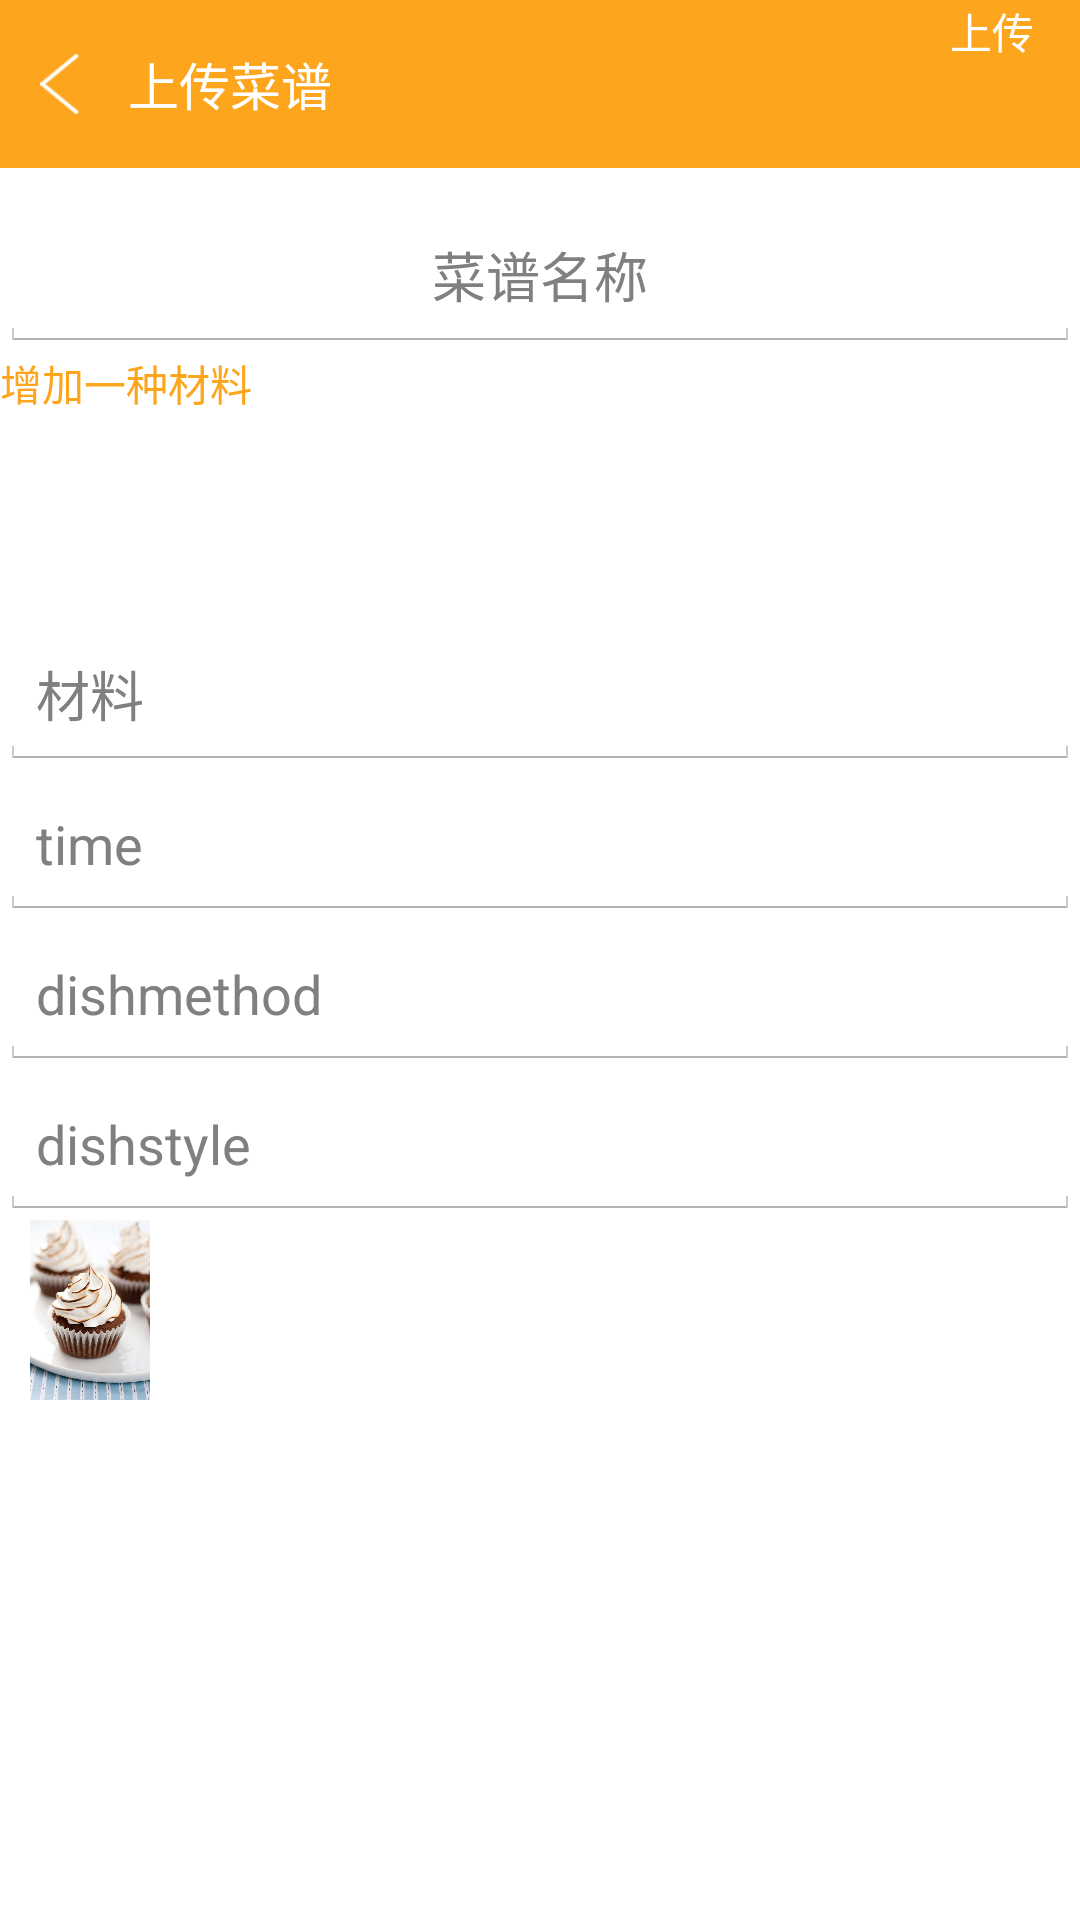

Screen size 1080×1920. Icon name, then its center in pixels as point (x, y):
imageview arrow back: point (59, 84)
zhibeidangao: point (90, 1310)
